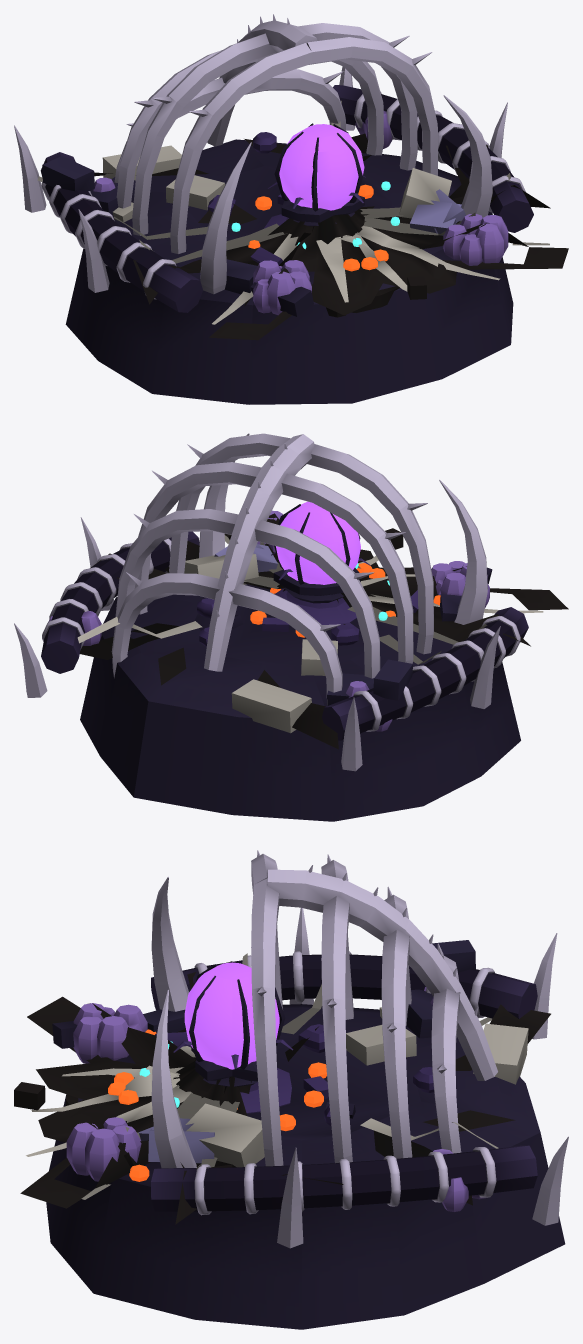
Rendered from brood-hive-nacre.glb.
The picture shows the model from 3 angles, top to bottom: view 1: azimuth 30°, elevation 25°; view 2: azimuth 150°, elevation 25°; view 3: azimuth 270°, elevation 25°; orthographic projection. The views are drawn at different scales.
Visible parts, largest first — view 1: site_brood_hive_nacre_body, site_brood_hive_nacre_ruin, site_brood_hive_nacre_core; view 2: site_brood_hive_nacre_body, site_brood_hive_nacre_ruin, site_brood_hive_nacre_core; view 3: site_brood_hive_nacre_body, site_brood_hive_nacre_ruin, site_brood_hive_nacre_core.
Part boxes in pixels (x1=…): site_brood_hive_nacre_body: x1=14, y1=14, x2=533, y2=404; site_brood_hive_nacre_ruin: x1=37, y1=100, x2=568, y2=340; site_brood_hive_nacre_core: x1=274, y1=123, x2=364, y2=211; site_brood_hive_nacre_body: x1=14, y1=433, x2=528, y2=821; site_brood_hive_nacre_ruin: x1=77, y1=513, x2=568, y2=749; site_brood_hive_nacre_core: x1=274, y1=501, x2=360, y2=584; site_brood_hive_nacre_body: x1=46, y1=850, x2=568, y2=1329; site_brood_hive_nacre_ruin: x1=14, y1=940, x2=550, y2=1224; site_brood_hive_nacre_core: x1=184, y1=961, x2=285, y2=1069.
Bounding box in the file's own units: 5.11 × 3.34 × 4.79.
